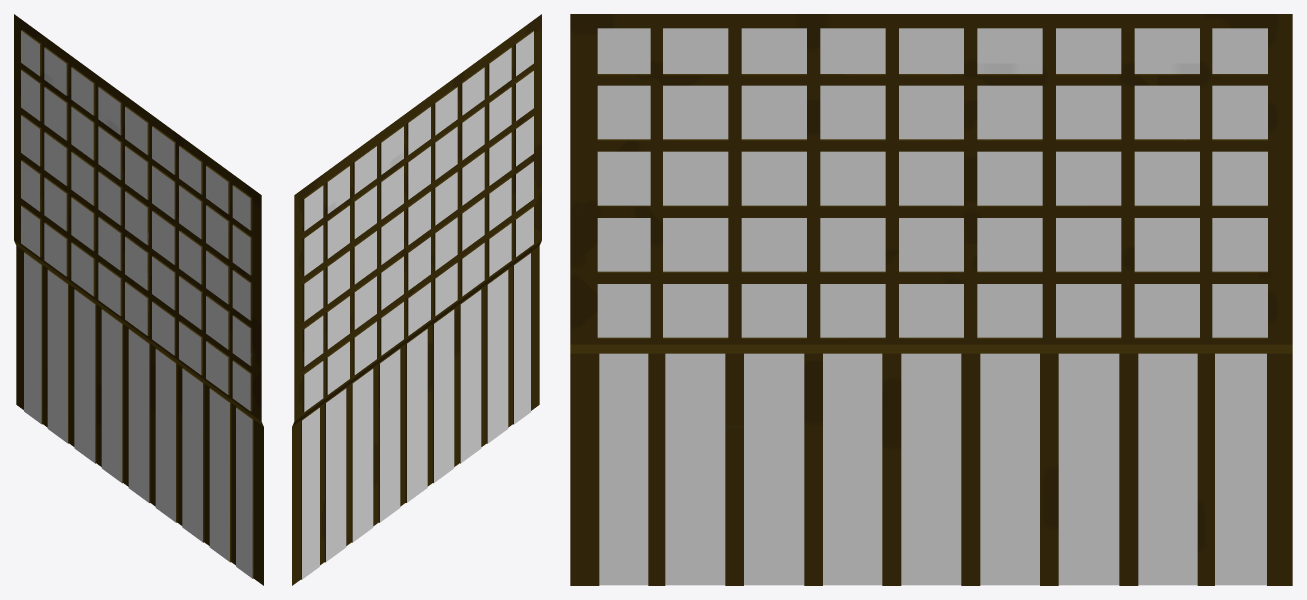
File: Wall.fbx
3 renders of one model, left to right at view 1: azimuth 30°, elevation 25°; view 2: azimuth 150°, elevation 25°; view 3: azimuth 270°, elevation 25°, orthographic. The views are drawn at different scales.
Visible parts, largest first — view 1: Paper_Wall; view 2: Paper_Wall; view 3: Paper_Wall.
Part boxes in pixels (x1=…): Paper_Wall: x1=14, y1=14, x2=263, y2=585; Paper_Wall: x1=292, y1=14, x2=541, y2=585; Paper_Wall: x1=570, y1=14, x2=1292, y2=585.
Size of the model in its own units: 1.09 by 110 by 127.
